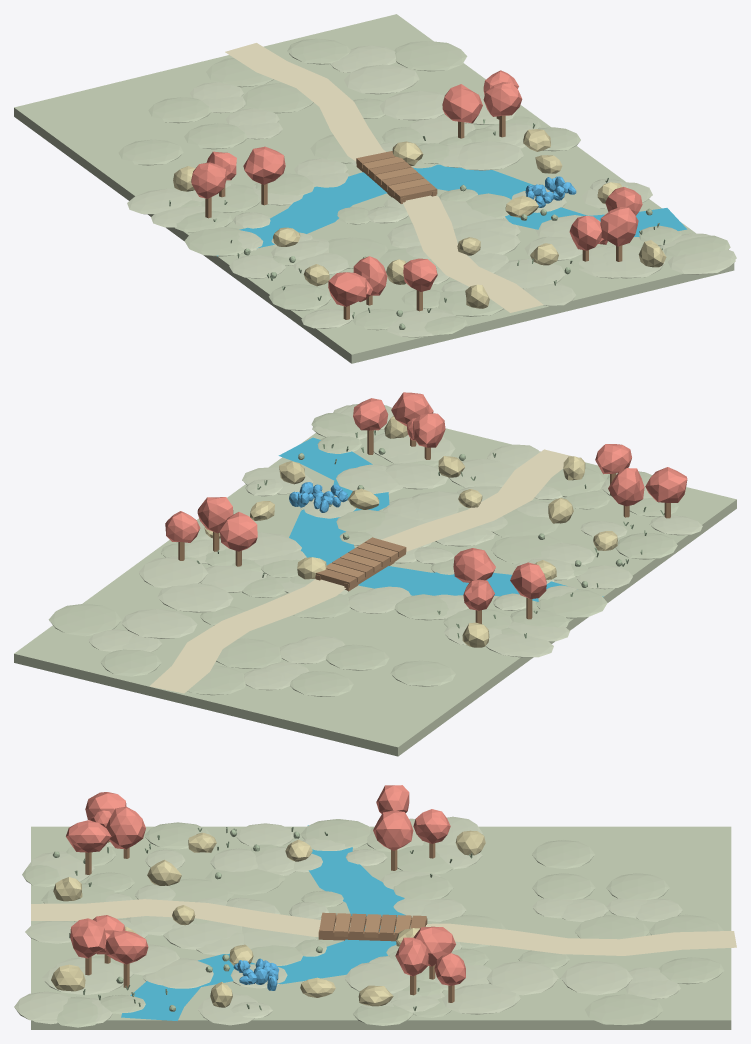
Rendered from puente.glb.
The picture shows the model from 3 angles, top to bottom: view 1: azimuth 30°, elevation 25°; view 2: azimuth 150°, elevation 25°; view 3: azimuth 270°, elevation 25°; orthographic projection. The views are drawn at different scales.
Parts seen in each view (by area): view 1: Terrain_Base, Winding_Blue_River, Winding_Sandy_Path.001, Winding_Sandy_Path, Main_Bridge_Plank_0, Ground_Facet_46.003, Ground_Facet_38.002, Ground_Facet_38.001, Ground_Facet_38, Ground_Facet_46.001, Ground_Facet_80, Ground_Facet_17 (+52 smaller); view 2: Terrain_Base, Winding_Blue_River, Winding_Sandy_Path.001, Winding_Sandy_Path, Main_Bridge_Plank_0, Ground_Facet_46.003, Ground_Facet_38.002, Ground_Facet_38.001, Ground_Facet_38.003, Ground_Facet_46.001, Ground_Facet_17, Ground_Facet_80 (+50 smaller); view 3: Terrain_Base, Winding_Blue_River, Winding_Sandy_Path.001, Winding_Sandy_Path, Main_Bridge_Plank_0, Ground_Facet_46.003, Ground_Facet_38.002, Ground_Facet_38.001, Ground_Facet_38.003, Ground_Facet_77, Ground_Facet_46.001, Ground_Facet_38 (+78 smaller).
Part boxes in pixels (left/top/right/bottom): Terrain_Base: left=14, top=14, right=734, bottom=363; Winding_Blue_River: left=217, top=164, right=687, bottom=256; Winding_Sandy_Path.001: left=225, top=43, right=385, bottom=161; Winding_Sandy_Path: left=403, top=195, right=543, bottom=312; Main_Bridge_Plank_0: left=356, top=151, right=437, bottom=203; Ground_Facet_46.003: left=394, top=41, right=467, bottom=71; Ground_Facet_38.002: left=344, top=64, right=419, bottom=94; Ground_Facet_38.001: left=379, top=90, right=444, bottom=120; Ground_Facet_38: left=457, top=141, right=523, bottom=170; Ground_Facet_46.001: left=243, top=83, right=313, bottom=113; Ground_Facet_80: left=493, top=258, right=565, bottom=288; Ground_Facet_17: left=184, top=227, right=244, bottom=256; Terrain_Base: left=14, top=428, right=736, bottom=756; Winding_Blue_River: left=278, top=437, right=603, bottom=601; Winding_Sandy_Path.001: left=149, top=579, right=345, bottom=693; Winding_Sandy_Path: left=381, top=449, right=571, bottom=551; Main_Bridge_Plank_0: left=315, top=537, right=406, bottom=591; Ground_Facet_46.003: left=48, top=603, right=121, bottom=636; Ground_Facet_38.002: left=121, top=609, right=197, bottom=638; Ground_Facet_38.001: left=157, top=583, right=233, bottom=612; Ground_Facet_38.003: left=138, top=556, right=208, bottom=588; Ground_Facet_46.001: left=216, top=638, right=281, bottom=668; Ground_Facet_17: left=535, top=589, right=607, bottom=618; Ground_Facet_80: left=449, top=459, right=516, bottom=487; Terrain_Base: left=31, top=826, right=731, bottom=1029; Winding_Blue_River: left=121, top=825, right=405, bottom=1020; Winding_Sandy_Path.001: left=410, top=923, right=736, bottom=955; Winding_Sandy_Path: left=31, top=899, right=350, bottom=936; Main_Bridge_Plank_0: left=318, top=912, right=427, bottom=941; Ground_Facet_46.003: left=584, top=994, right=663, bottom=1025; Ground_Facet_38.002: left=560, top=961, right=632, bottom=995; Ground_Facet_38.001: left=486, top=961, right=558, bottom=995; Ground_Facet_38.003: left=442, top=983, right=520, bottom=1014; Ground_Facet_77: left=205, top=869, right=285, bottom=895; Ground_Facet_46.001: left=574, top=914, right=649, bottom=939; Ground_Facet_38: left=344, top=962, right=409, bottom=993.
Bounding box in the file's own units: 26.14 × 3.9 × 37.86.
